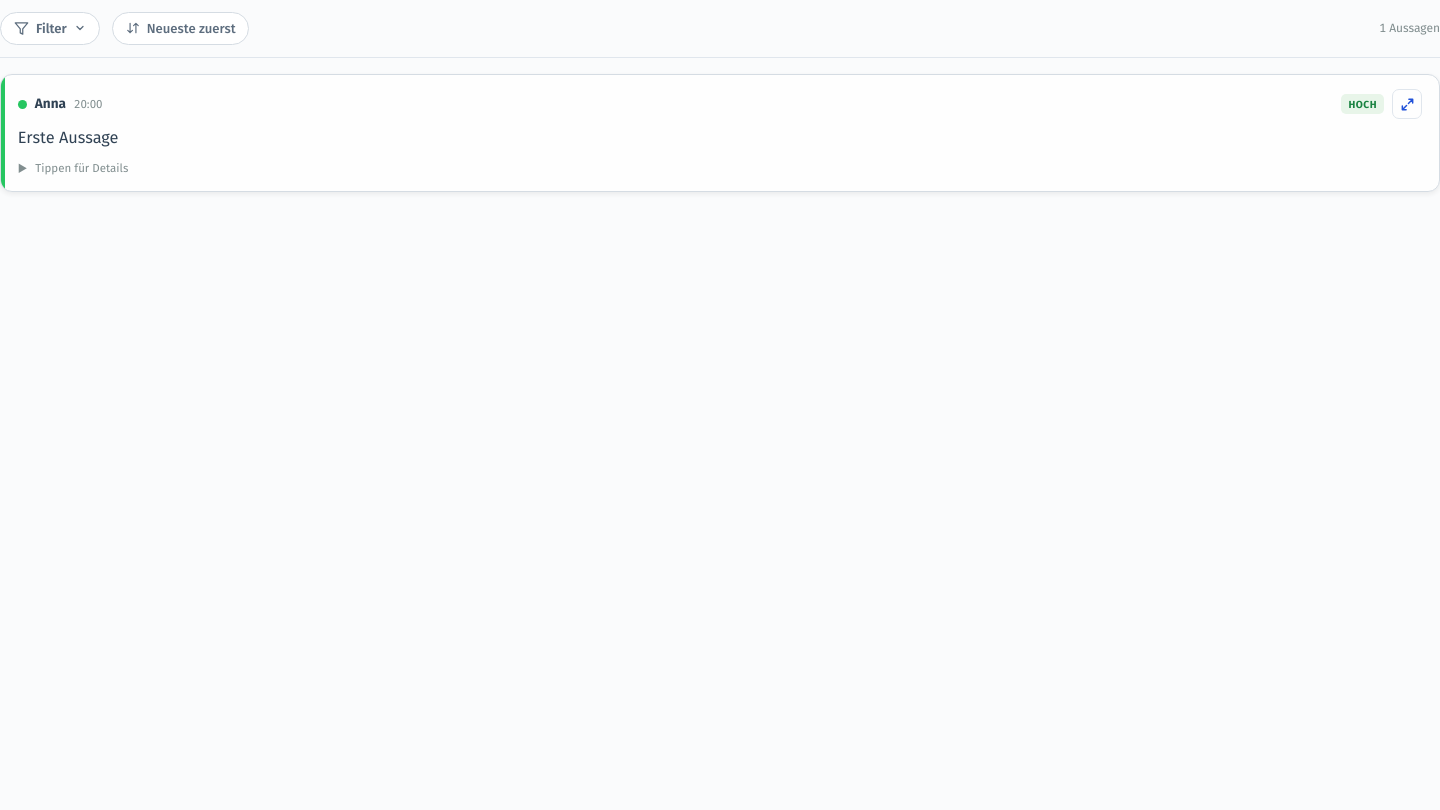
Test: FactCheckStream reasoning › shows the short version in the card and the long one in a side panel
What coordinates should you click on to do the following:
click the button with class "fcs-card"
I would click on:
 (720, 133)
Its box is [0,74,1439,192].
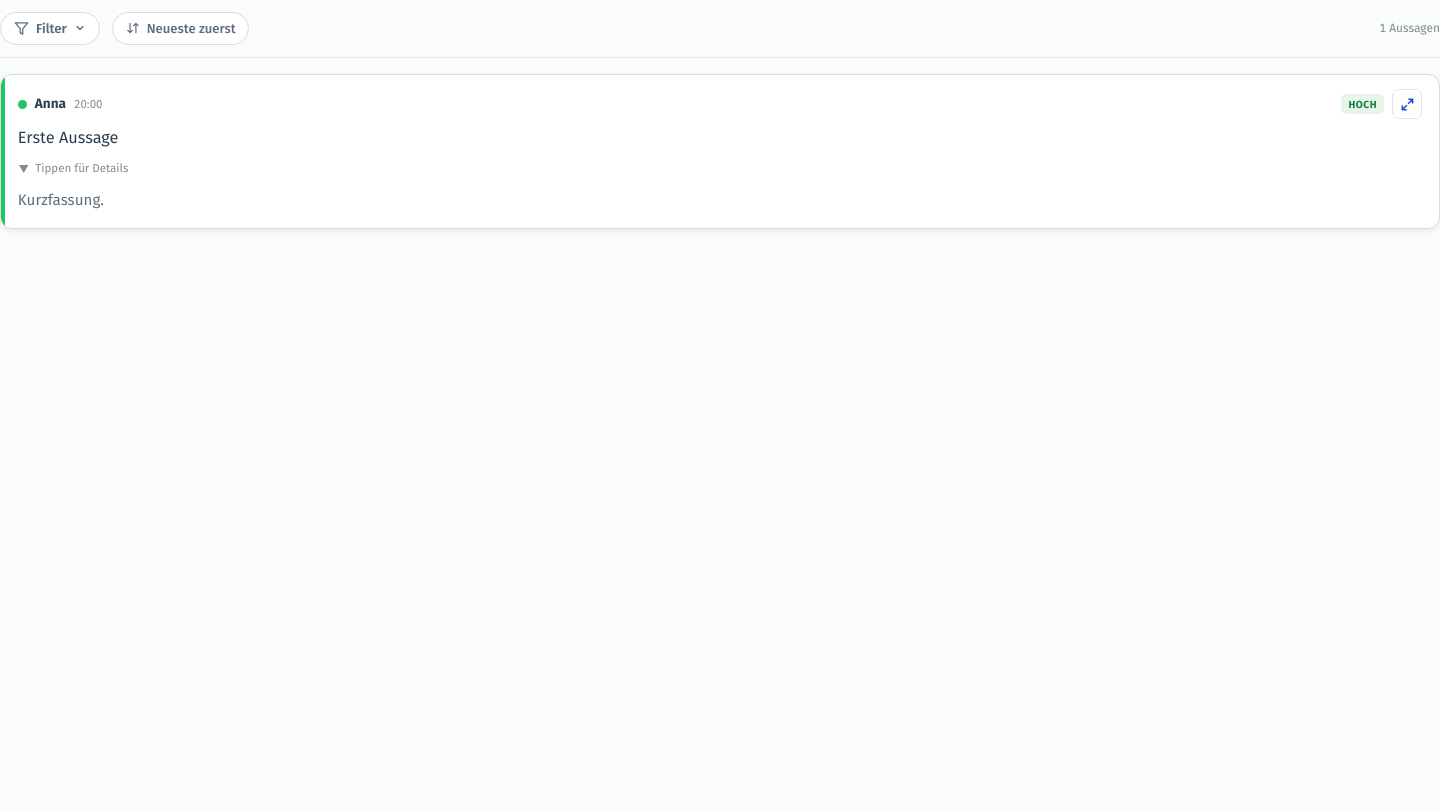
Expected: the text "Kurzfassung." is shown, [18,191,104,209]
Expected: the text "Lange Begründung." is not shown
What coordinates should you click on to do the following:
click the button named "Mehr anzeigen"
I would click on:
 (1407, 104)
Its box is [1392,89,1422,119].
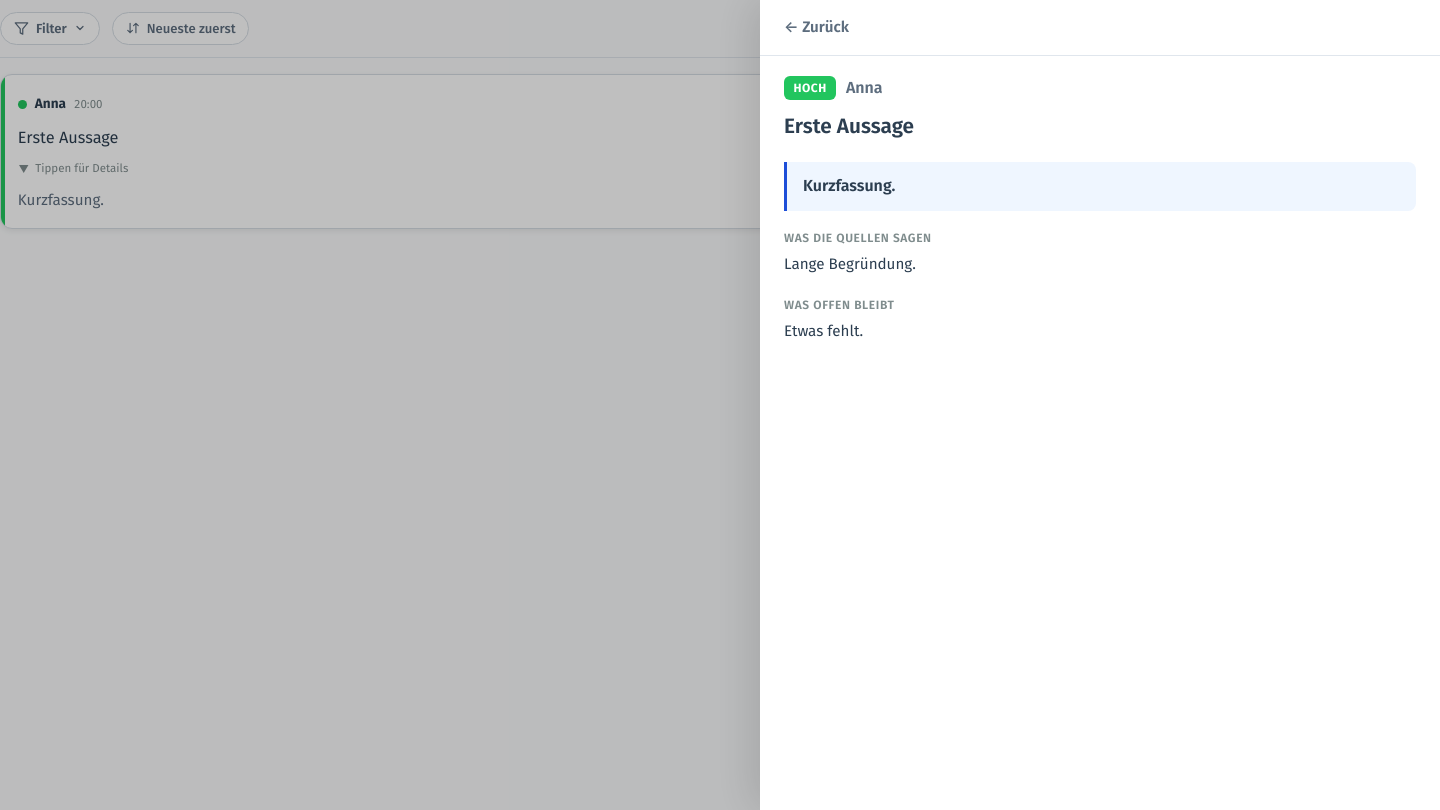
Expected: the dialog named "Prüfergebnis" shows "Lange Begründung.", [784,255,916,273]
Expected: the dialog named "Prüfergebnis" shows "Erste Aussage", [784,114,914,139]
Expected: the text with class "claim-detail-lead" reads "Kurzfassung.", [803,176,895,195]
